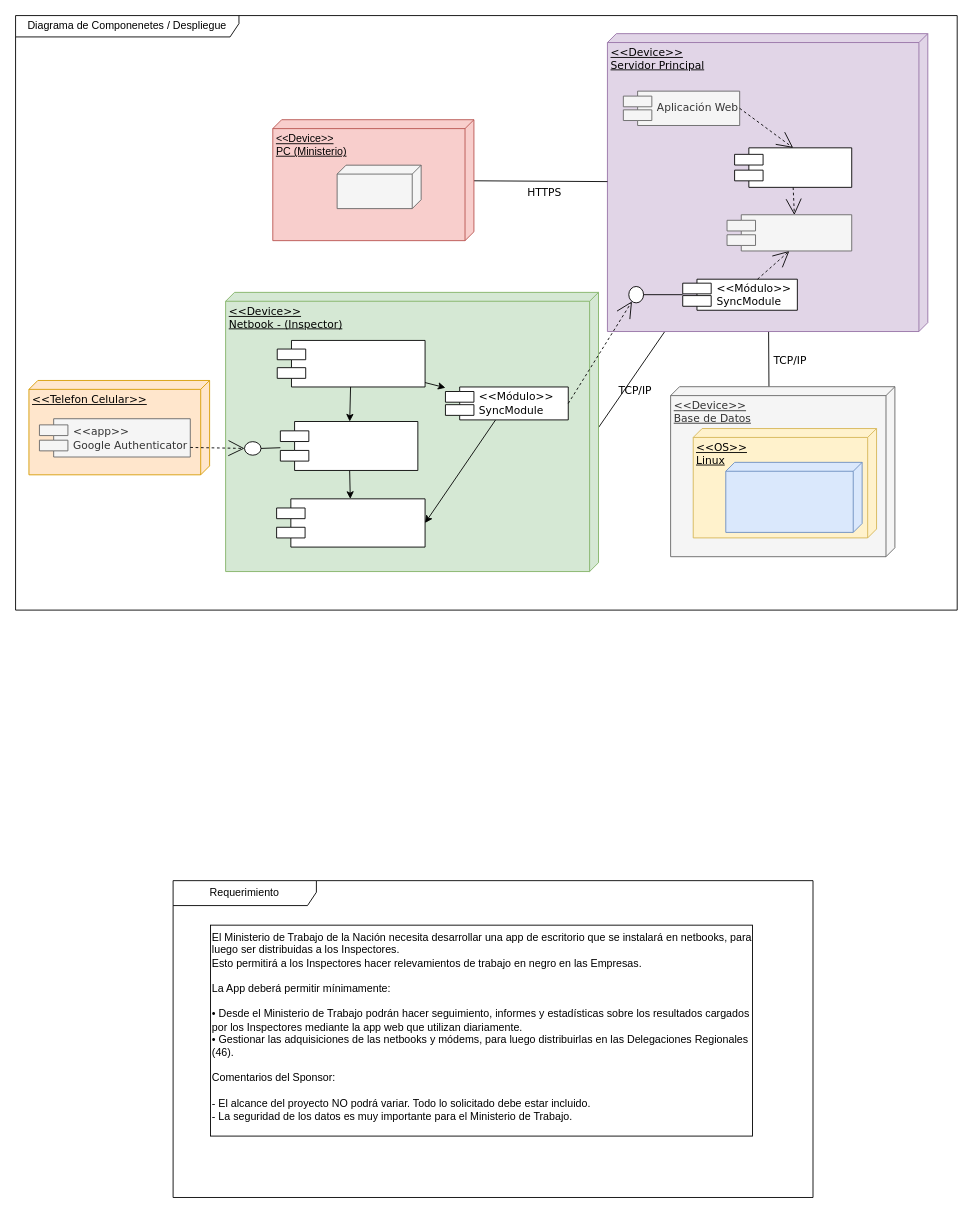
Some shapes in this 973 by 1213 pixel diagram are drawn without their labels. Each missing label, with the centre of its shape:
<<Aplicación>> InspectorDigital: point (350, 363)
<<BBDD - Local>> InspectorDigital: point (350, 522)
<<DB>> Oracle: point (793, 496)
<<Módulo>> AccesoDatos: point (789, 232)
<<Módulo>> ReportMng: point (793, 167)
<<Módulo>> TokenValidator: point (348, 445)
Web Browser: point (378, 186)
